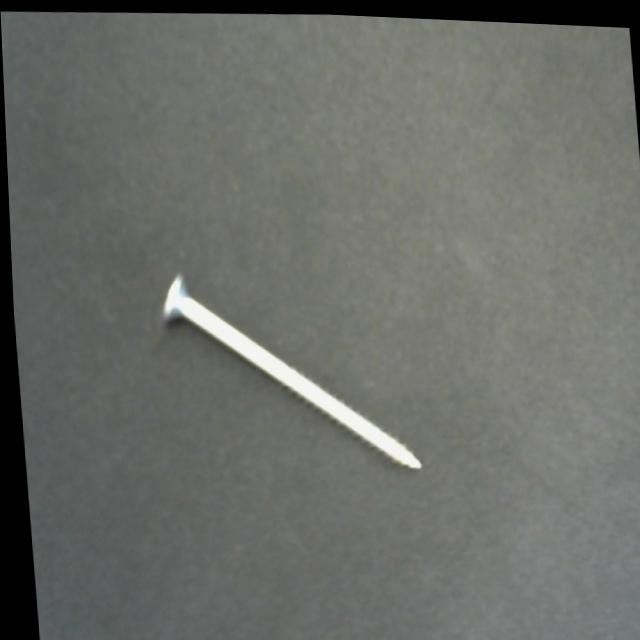WoodScrew: (144, 244, 425, 487)
